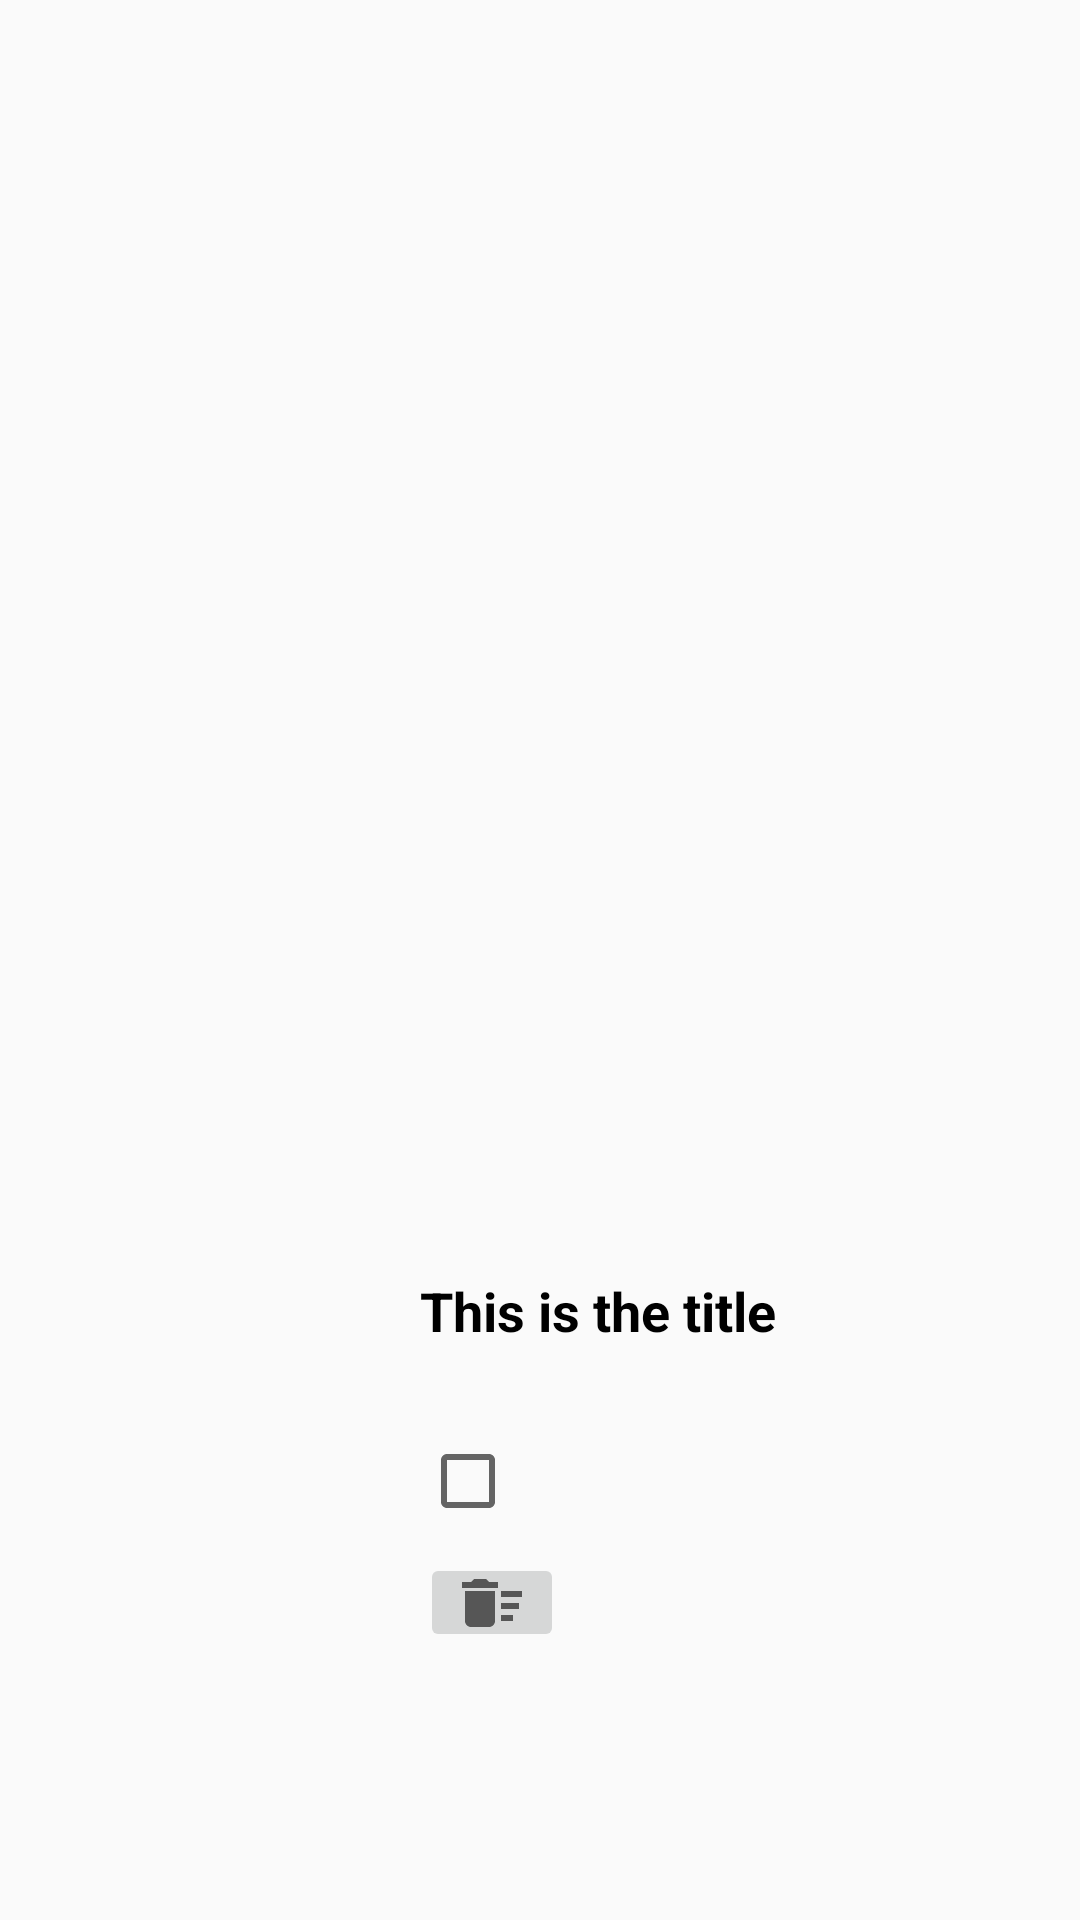

Icon bounding boxes for this 1080x1920 phone screenshot, format [x1=x1, y1=y1, x2=x2, y2=y2]:
delete sweep: [x1=432, y1=1571, x2=552, y2=1634]
